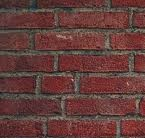brick: (58, 9, 130, 29), (57, 53, 129, 73), (33, 31, 105, 50), (46, 118, 118, 137), (64, 97, 136, 115), (1, 97, 61, 117), (79, 75, 145, 93), (1, 10, 55, 29), (1, 54, 55, 73), (1, 119, 43, 137), (1, 75, 37, 94), (109, 32, 145, 50), (41, 75, 75, 94), (1, 30, 30, 51), (33, 1, 101, 9), (120, 118, 145, 135), (133, 52, 145, 72)
